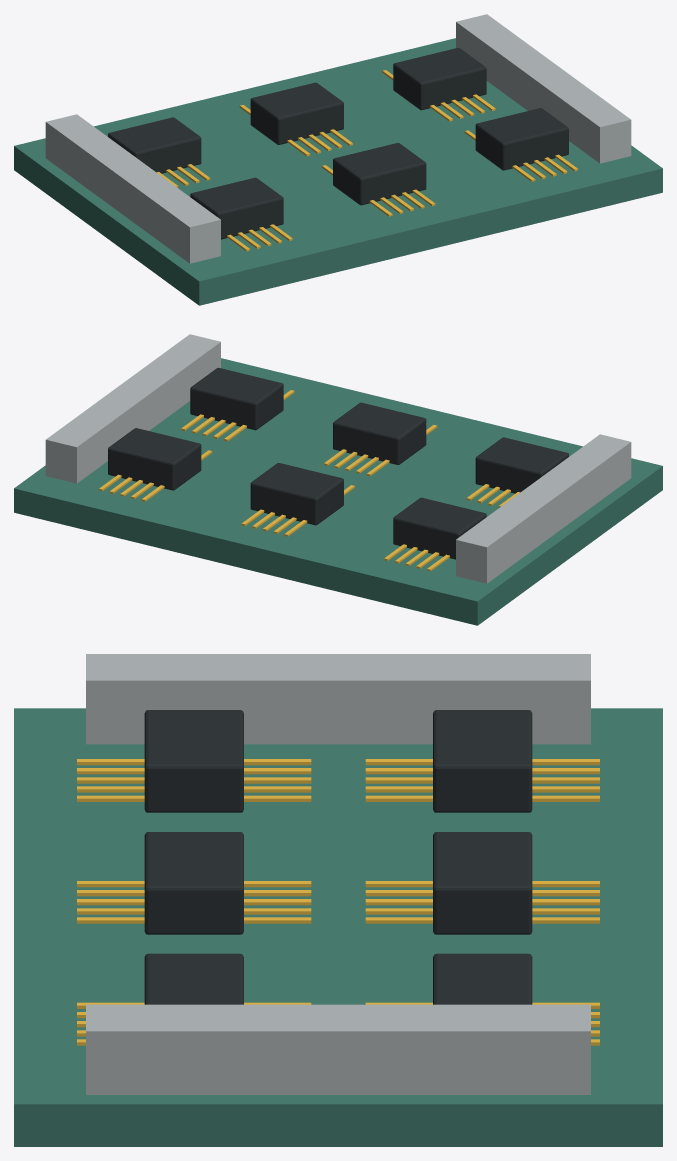
File: kit-pcb.glb
The picture shows the model from 3 angles, top to bottom: view 1: azimuth 30°, elevation 25°; view 2: azimuth 150°, elevation 25°; view 3: azimuth 270°, elevation 25°; orthographic projection. The views are drawn at different scales.
Visible parts, largest first — view 1: FR4 substrate; view 2: FR4 substrate; view 3: FR4 substrate.
Boxes of the visible parts, <box> form: FR4 substrate: <box>14,14,662,305</box>; FR4 substrate: <box>14,334,662,625</box>; FR4 substrate: <box>14,654,662,1146</box>.
Bounding box in the file's own units: 0.52 × 0.065 × 0.36.
